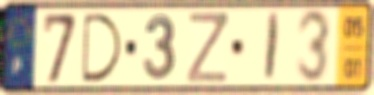3: (295, 5, 332, 89), (141, 11, 177, 85)
7: (41, 10, 78, 86)
D: (81, 11, 125, 85)
I: (262, 10, 283, 84)
Z: (185, 10, 229, 85)
